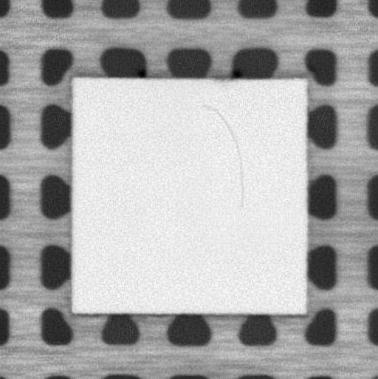DIE_CRACK: (203, 104, 246, 209)
